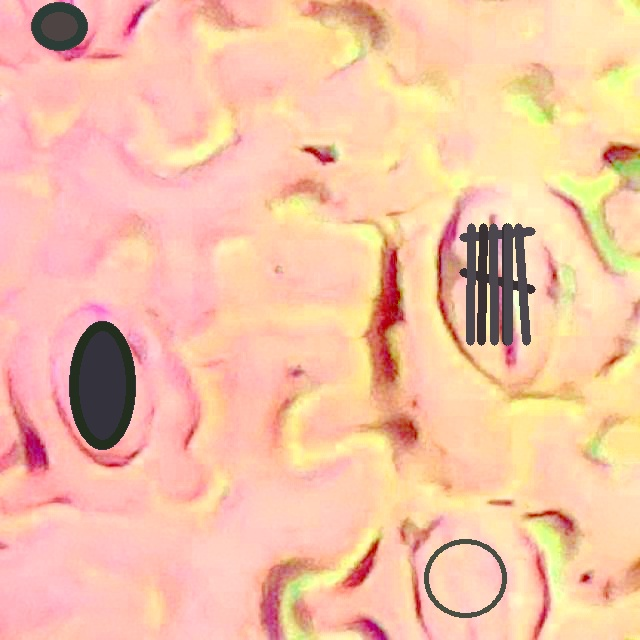close: (69, 322, 135, 449), (424, 538, 506, 618)
open: (459, 223, 535, 345), (31, 2, 87, 49)
